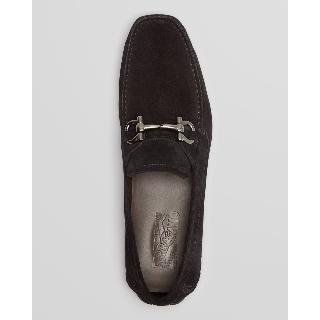loafers: (106, 9, 212, 320)
